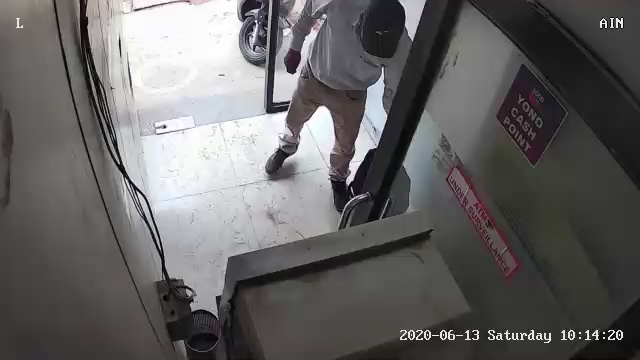open: (101, 5, 284, 123)
